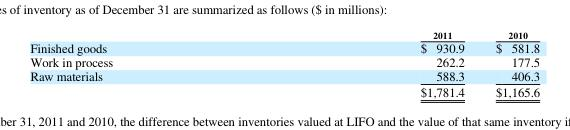table: (29, 29, 539, 99)
table column: (29, 29, 265, 99), (265, 29, 479, 99), (479, 29, 539, 99)
table column header: (29, 29, 539, 40)
table row: (29, 40, 539, 55), (29, 69, 539, 84), (29, 84, 539, 99), (29, 55, 539, 69), (29, 29, 539, 40)
